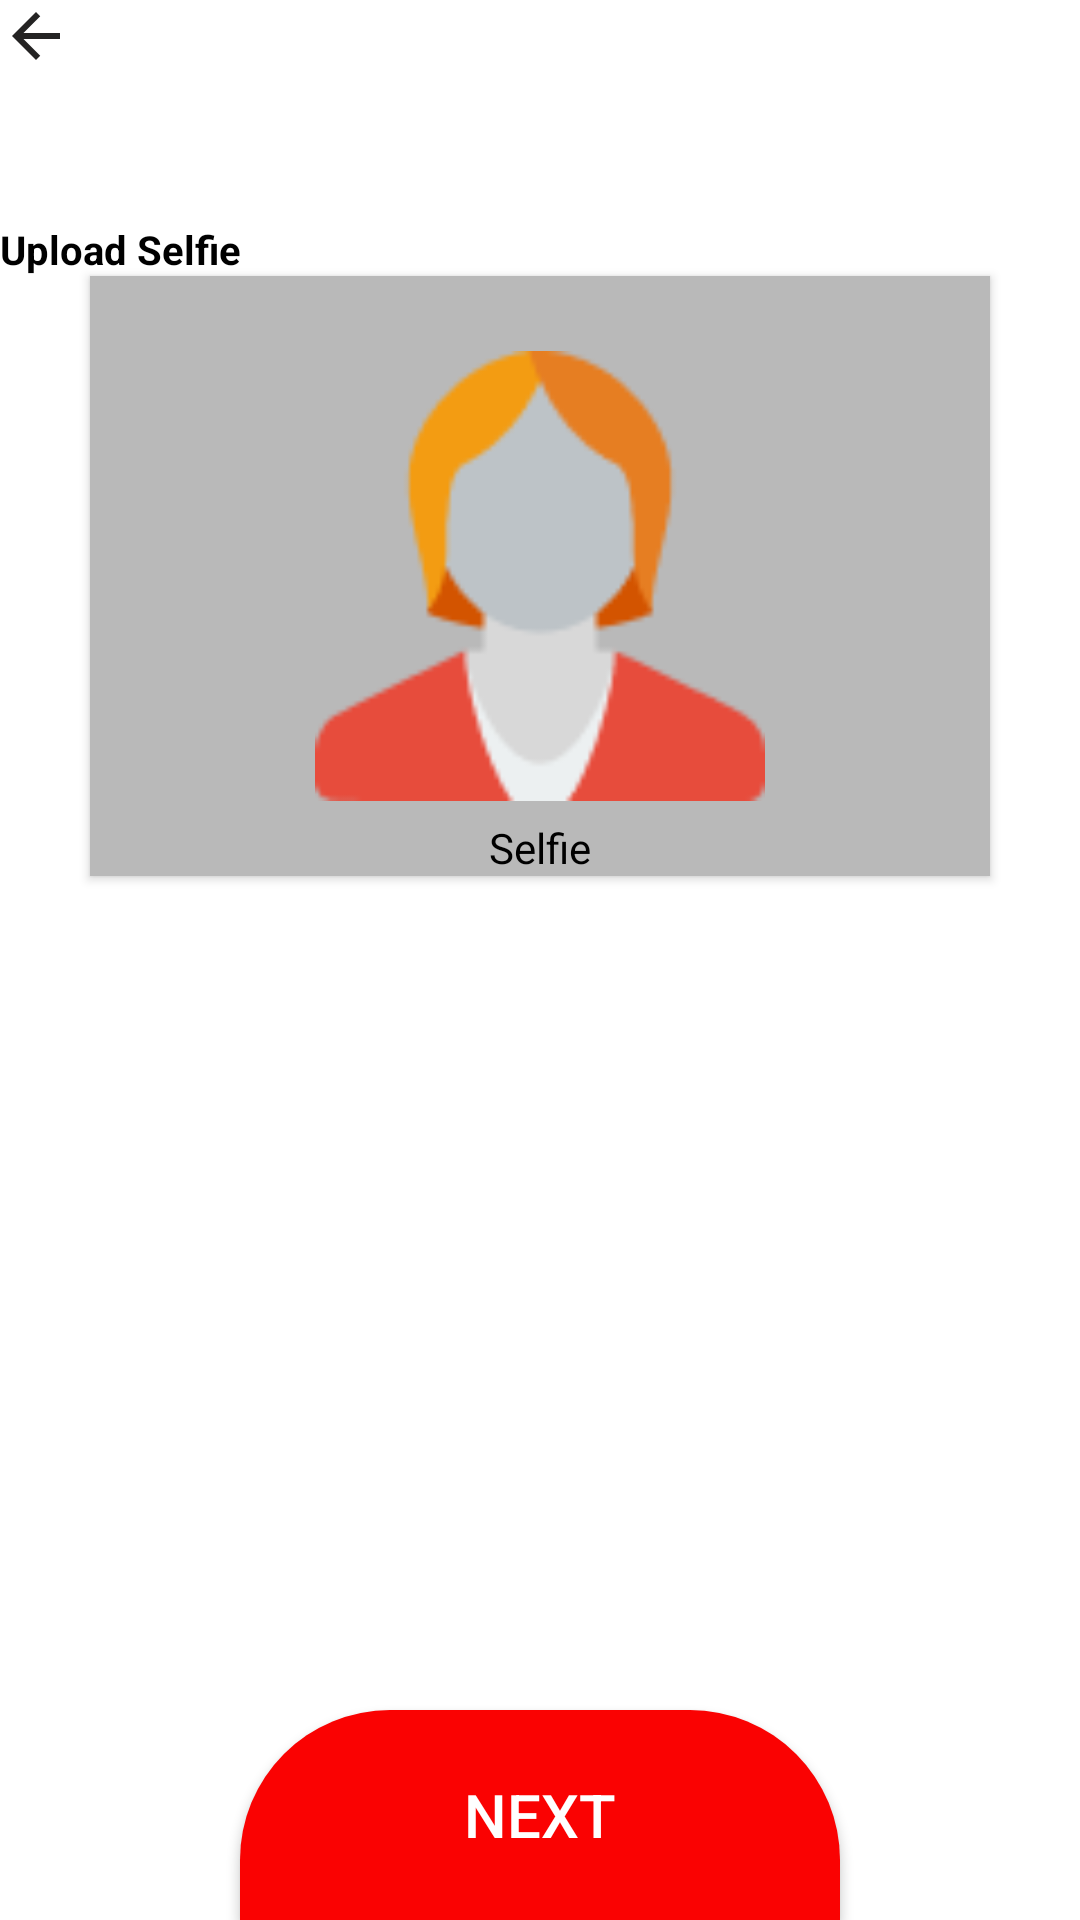

Point at icon controls on the screen. Image size 1080px×1920px, points as [x,y].
arrow back: [36,36]
